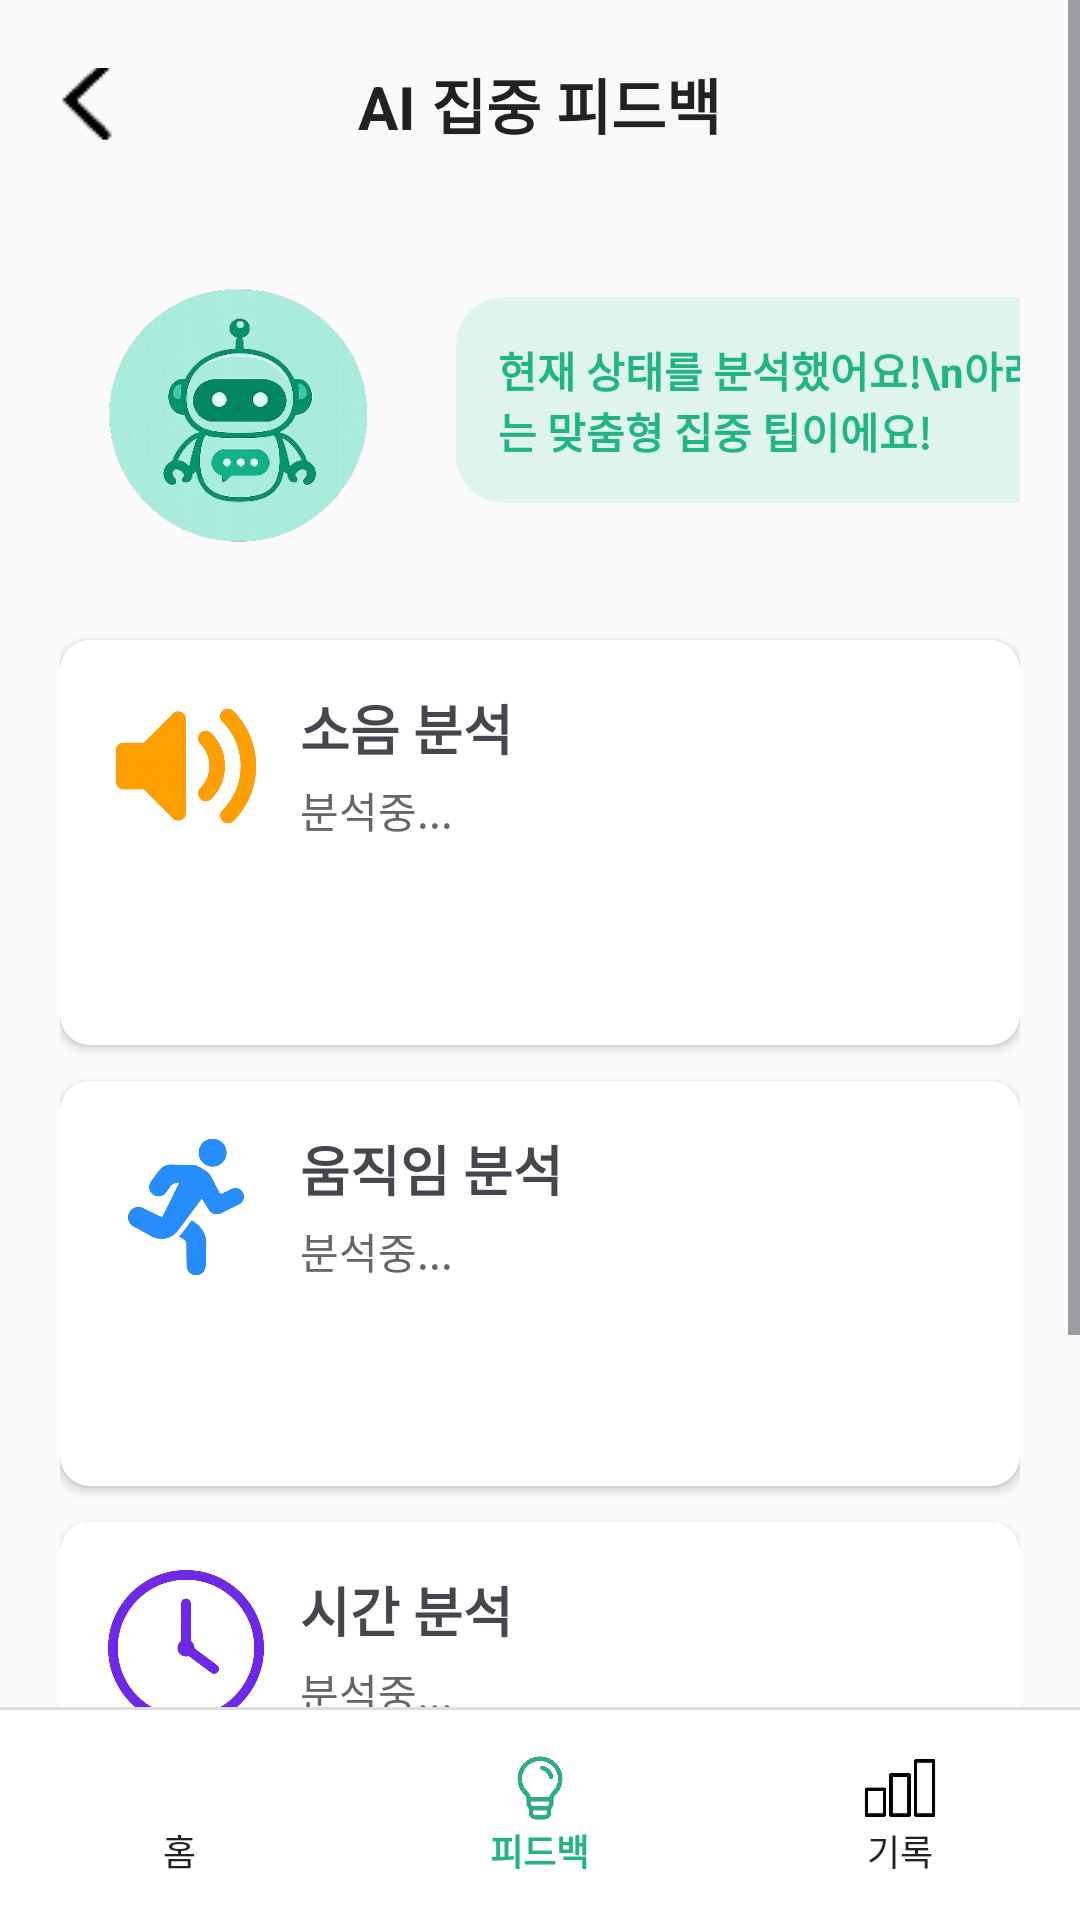

Named icons in this screenshot (1080*1920) and their centers, point (x, y):
back: point (87, 104)
feedback running: point (186, 1207)
feedback volume: point (186, 766)
